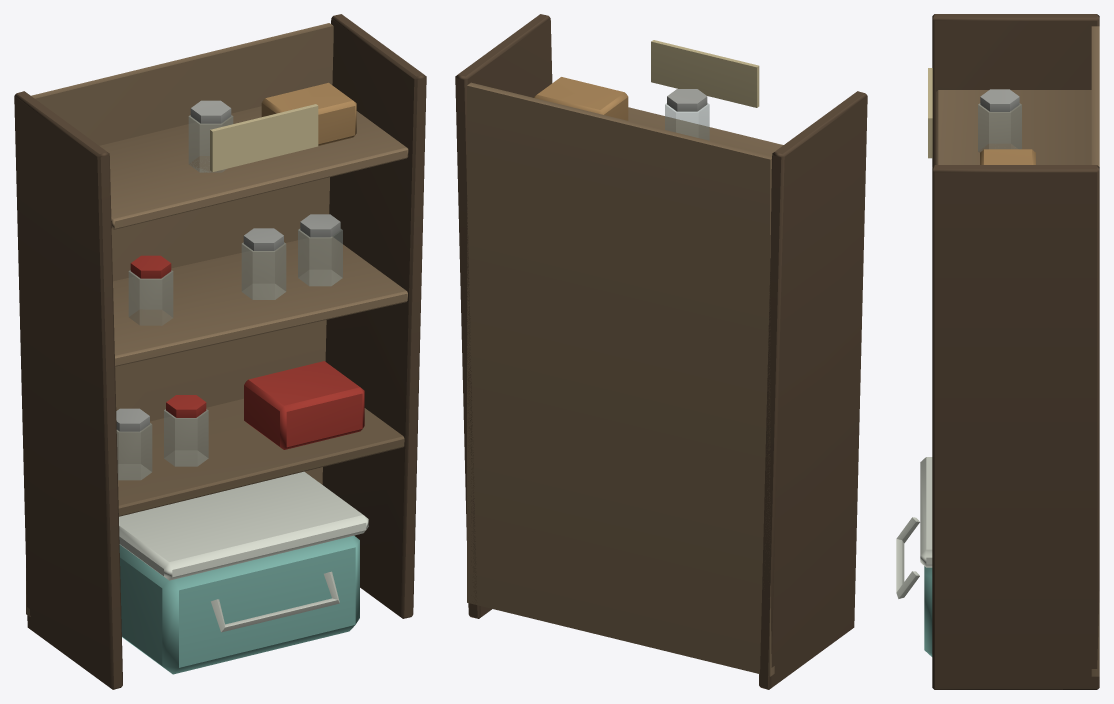
Rendered from rack_bait.glb.
The picture shows the model from 3 angles, left to right: view 1: azimuth 30°, elevation 25°; view 2: azimuth 150°, elevation 25°; view 3: azimuth 270°, elevation 25°; orthographic projection. The views are drawn at different scales.
Parts seen in each view (by area): view 1: rack_bait; view 2: rack_bait; view 3: rack_bait.
Part boxes in pixels (bbox=[...]): rack_bait: bbox=[14, 14, 426, 689]; rack_bait: bbox=[455, 14, 867, 689]; rack_bait: bbox=[896, 14, 1099, 689].
Bounding box in the file's own units: 0.9329 × 1.46 × 0.51.
